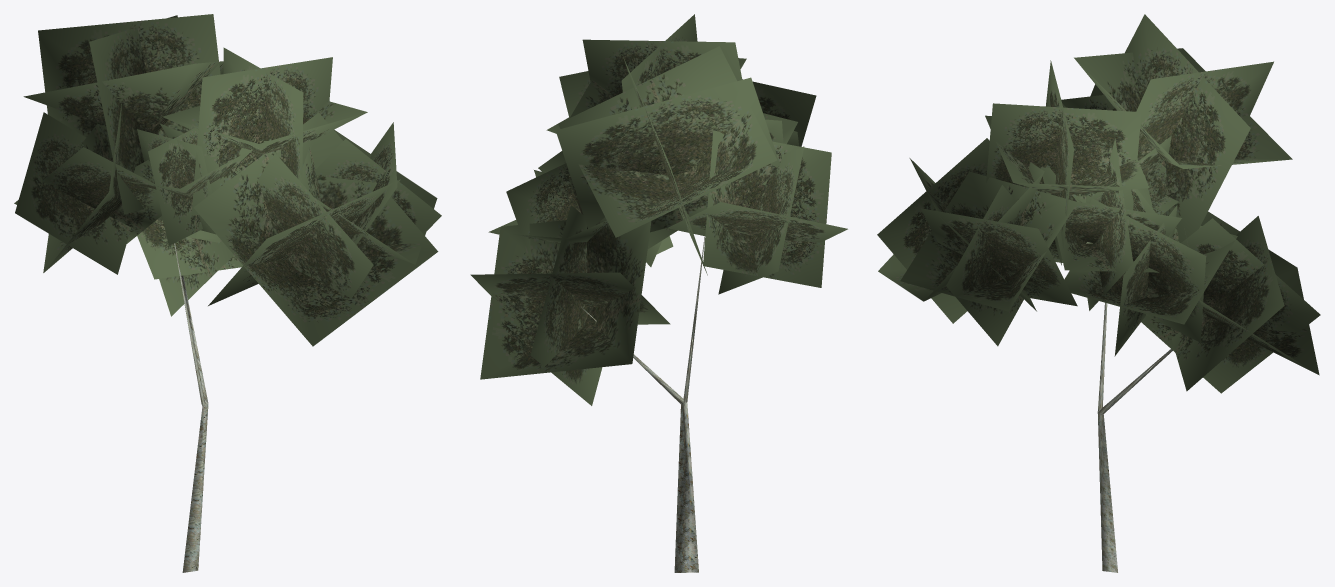
File: ever_eucalyptus_tall_l4.fbx
3 views of the same model, side by side, from view 1: azimuth 30°, elevation 25°; view 2: azimuth 150°, elevation 25°; view 3: azimuth 270°, elevation 25° (orthographic). The views are drawn at different scales.
Visible parts, largest first — view 1: mesh_node; view 2: mesh_node; view 3: mesh_node.
Part boxes in pixels (left/top/right/bottom): mesh_node: left=14, top=14, right=441, bottom=572; mesh_node: left=470, top=14, right=847, bottom=572; mesh_node: left=877, top=14, right=1320, bottom=572.
Size of the model in its own units: 16.91 by 23.68 by 18.47.
